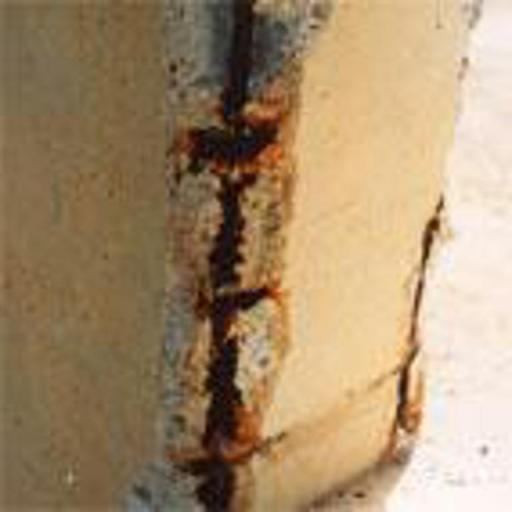spalling: (166, 3, 294, 512)
